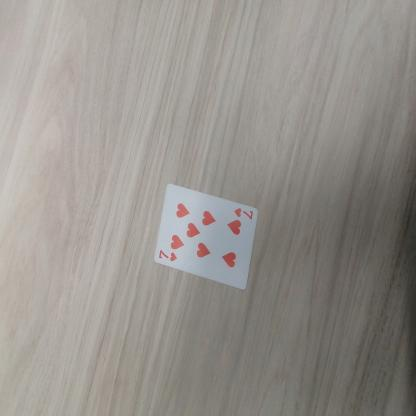7H: (229, 207, 260, 221), (158, 245, 178, 266)
